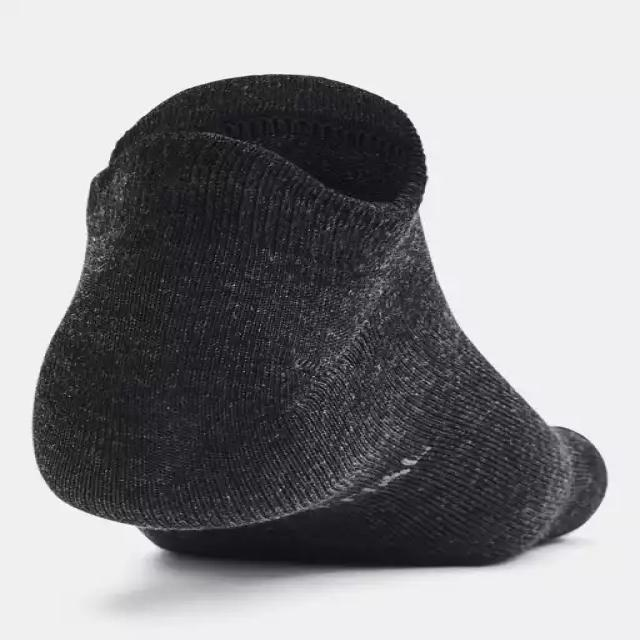sock: (31, 72, 608, 566)
